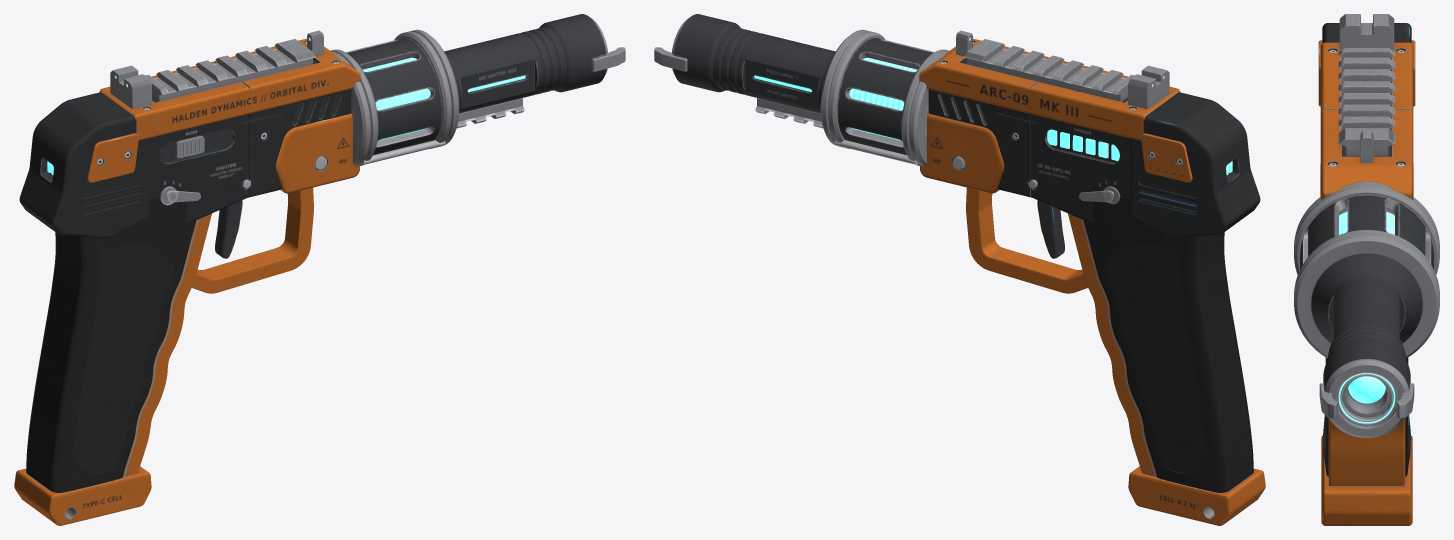
File: ARC09.glb
3 views of the same model, side by side, from view 1: azimuth 30°, elevation 25°; view 2: azimuth 150°, elevation 25°; view 3: azimuth 270°, elevation 25° (orthographic). The views are drawn at different scales.
Parts seen in each view (by area): view 1: Grip, Armor_Panels, Rear_Housing, Energy_Core, Main_Housing, Front_Emitter, Mechanical_Details, Trigger_Guard, Trigger; view 2: Grip, Armor_Panels, Rear_Housing, Energy_Core, Main_Housing, Front_Emitter, Mechanical_Details, Trigger_Guard, Emissive_Elements, Trigger; view 3: Front_Emitter, Energy_Core, Grip, Armor_Panels, Mechanical_Details, Emissive_Elements, Rear_Housing.
Boxes of the visible parts, x1=… form: Grip: x1=14, y1=197, x2=211, y2=525; Armor_Panels: x1=87, y1=38, x2=360, y2=193; Rear_Housing: x1=19, y1=92, x2=149, y2=238; Energy_Core: x1=330, y1=29, x2=459, y2=166; Main_Housing: x1=97, y1=89, x2=351, y2=242; Front_Emitter: x1=444, y1=14, x2=625, y2=128; Mechanical_Details: x1=97, y1=30, x2=339, y2=205; Trigger_Guard: x1=192, y1=187, x2=313, y2=293; Trigger: x1=215, y1=200, x2=242, y2=258; Grip: x1=1068, y1=197, x2=1265, y2=525; Armor_Panels: x1=919, y1=38, x2=1192, y2=193; Rear_Housing: x1=1130, y1=92, x2=1260, y2=238; Energy_Core: x1=820, y1=29, x2=949, y2=166; Main_Housing: x1=928, y1=89, x2=1182, y2=242; Front_Emitter: x1=654, y1=14, x2=835, y2=128; Mechanical_Details: x1=940, y1=30, x2=1182, y2=204; Trigger_Guard: x1=966, y1=187, x2=1087, y2=293; Emissive_Elements: x1=754, y1=37, x2=1232, y2=175; Trigger: x1=1037, y1=200, x2=1064, y2=258; Front_Emitter: x1=1311, y1=253, x2=1422, y2=438; Energy_Core: x1=1294, y1=181, x2=1439, y2=358; Grip: x1=1321, y1=357, x2=1412, y2=525; Armor_Panels: x1=1318, y1=40, x2=1415, y2=199; Mechanical_Details: x1=1320, y1=14, x2=1413, y2=196; Emissive_Elements: x1=1338, y1=373, x2=1395, y2=423; Rear_Housing: x1=1322, y1=23, x2=1411, y2=42.
Bounding box in the file's own units: 0.294 × 0.2036 × 0.0524.
Materials: 1 (1 with a texture image).
